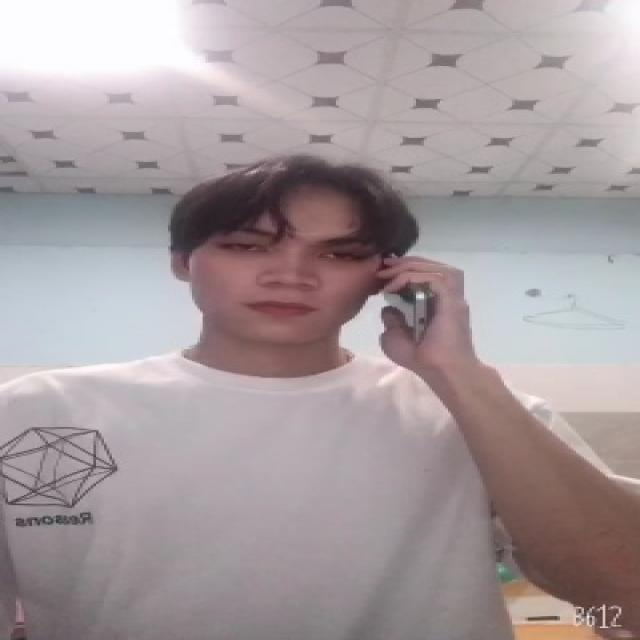Phone: (379, 247, 432, 347)
